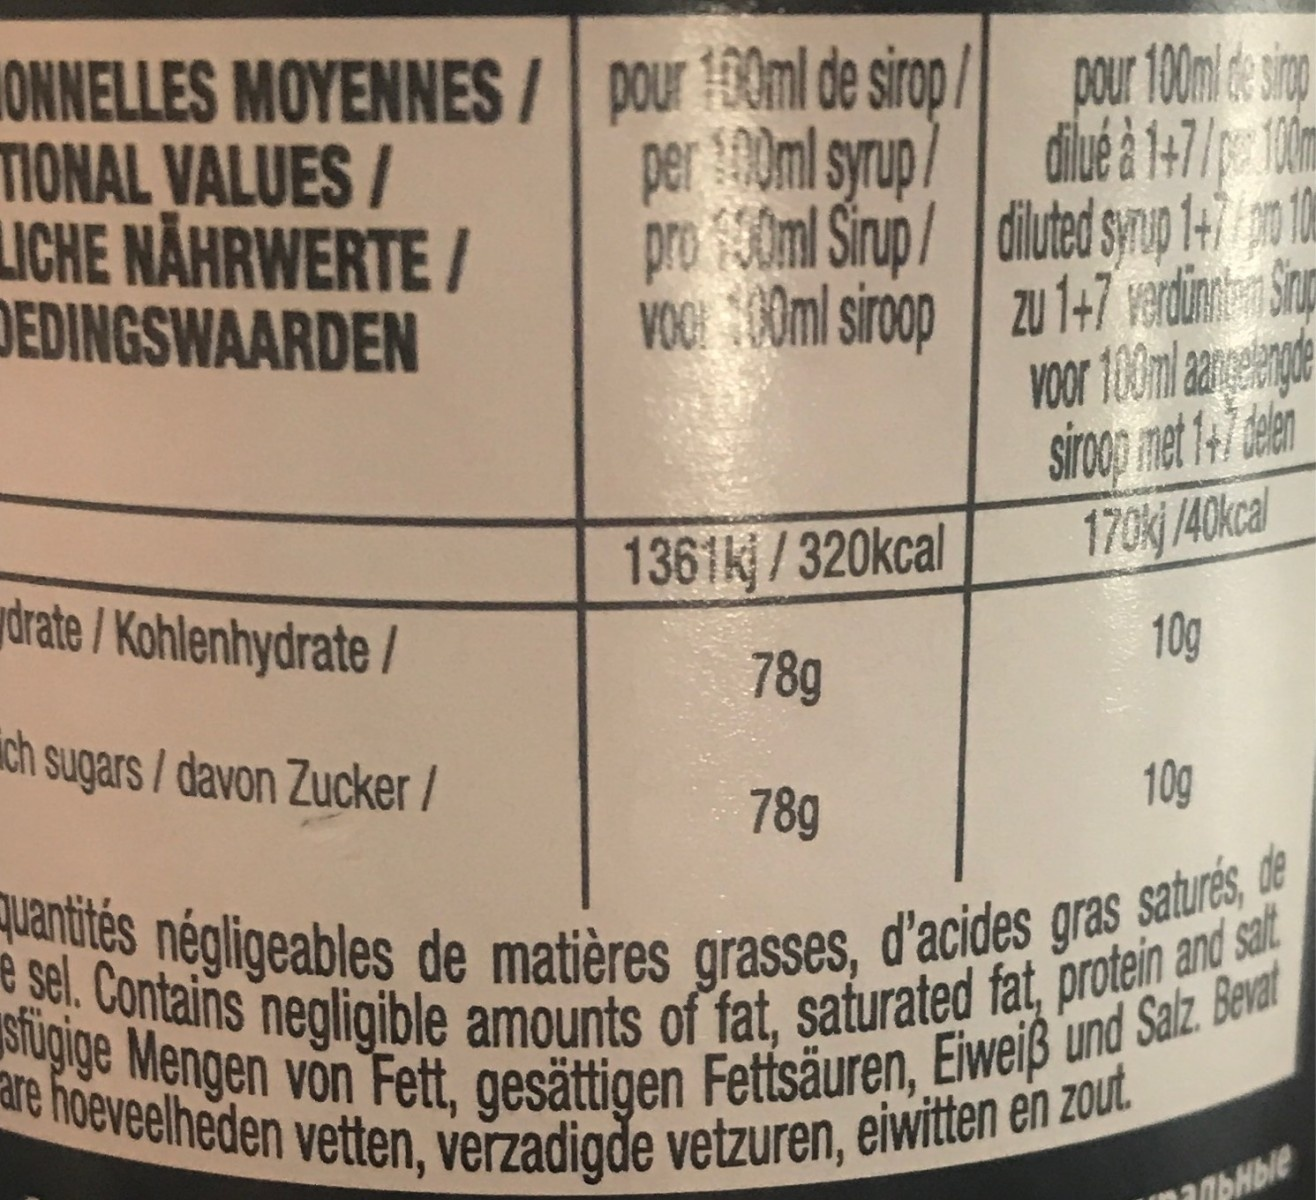column: (6, 58, 542, 832), (608, 46, 972, 850), (996, 44, 1316, 819)
table: (1, 42, 1316, 855)
